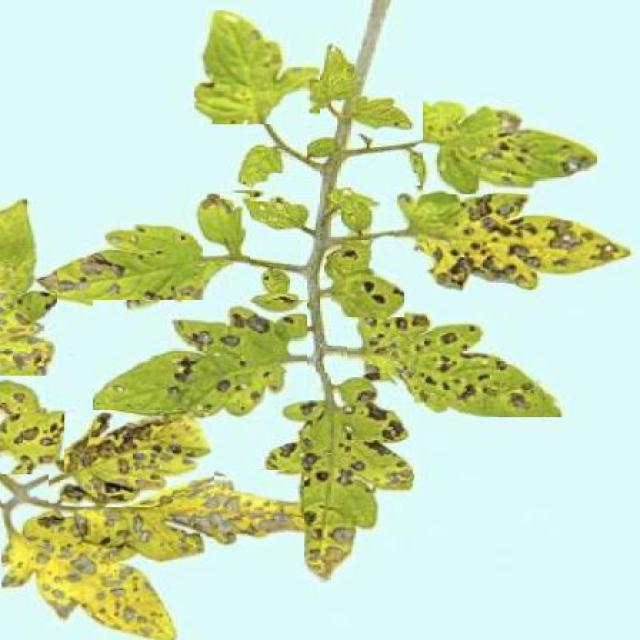Septoria: (2, 470, 305, 640), (266, 373, 415, 583), (34, 194, 250, 316), (93, 300, 308, 422), (347, 303, 574, 418), (394, 186, 640, 291), (422, 101, 598, 195), (49, 411, 214, 508), (194, 10, 320, 124), (0, 198, 57, 376), (0, 375, 64, 474), (332, 269, 404, 317)
